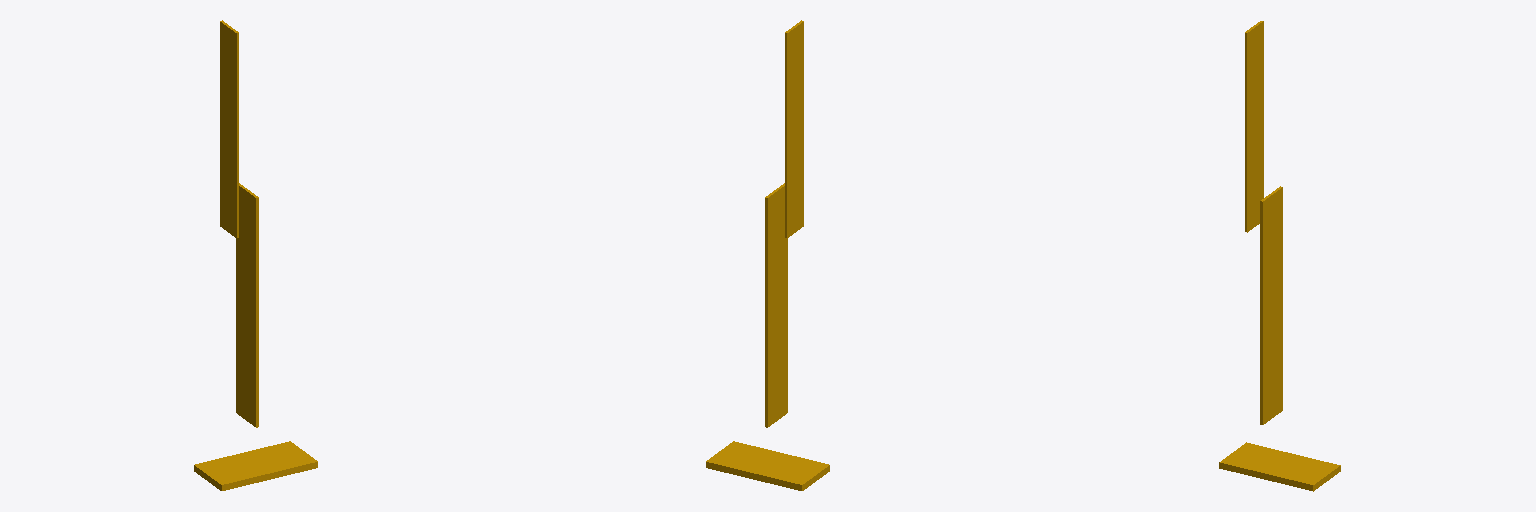
URDF robot description (134threedof):
<?xml version="1.0"?>

<robot name="134threedof">

  <!-- ******************************************************** -->
  <!-- ******************* Kinematic Chain ******************** -->
  <!-- ******************************************************** -->
  <!-- Note the 'origin' tag in the joints defines the shift and
       reorientation, i.e. the transform.  For moving joints, this
       happens before the continuous joint rotates around 'axis'. -->

  <!-- ALL LENGTHS IN M -->

  <!-- World can't take a visual element (at least in Gazebo). -->
  <link name="world"/>

  <joint name="placement" type="fixed">
    <parent link="world"/>
    <child  link="baseplate"/>
    <origin xyz="-0.2875 0.0394 0" rpy="0 0 0"/>			<!-- WHERE IS THE BASE -->
  </joint>

  <!-- BASE PLATE: Shift across the base plate to the base motor. --> 
  <link name="baseplate">
    <visual>
      <origin xyz="0.0 0.0 0.00625" rpy="0 0 0"/>
      <geometry>
	<box size="0.2 0.1 0.0125"/>
      </geometry>
      <material name="wood"/>
    </visual>
  </link>

  <joint name="baseplate" type="fixed">
    <parent link="baseplate"/>
    <child  link="basemotor"/>
    <origin xyz="0 0 0.0125" rpy="0 0 -1.5708"/>
  </joint>

  <!-- BASE MOTOR: Thickness: X5 = 31.1mm, X8 = 45.1mm -->
  <link name="basemotor">
    <visual>
      <geometry>
        <mesh filename="package://basic134/meshes/X5.stl"
	      scale="0.001 0.001 0.001"/>
      </geometry>
      <material name="hebi"/>
    </visual>
  </link>

  <joint name="base" type="continuous">
    <parent link="basemotor"/>
    <child  link="lbracket"/>
    <origin xyz="0 0 0.0311" rpy="0 0 0"/>
    <axis   xyz="0 0 1"/>
  </joint>

  <!-- L BRACKET: Shift and rotate across the L bracket. -->
  <link name="lbracket">
    <!-- Add a visual element -->
  </link>

  <joint name="lbracket" type="fixed">
    <parent link="lbracket"/>
    <child  link="shouldermotor"/>
    <origin xyz="0 0.02999 0.0953" rpy="1.5708 -1.5708 0.0"/>	  <!-- L BRACKET DIMENIONS -->
  </joint>

  <!-- SHOULDER MOTOR: Thickness: X5 = 31.1mm, X8 = 45.1mm -->
  <link name="shouldermotor">
    <visual>
      <geometry>
        <mesh filename="package://basic134/meshes/X8.stl"
	      scale="0.001 0.001 0.001"/>
      </geometry>
      <material name="hebi"/>
    </visual>
  </link>

  <joint name="shoulder" type="continuous">
    <parent link="shouldermotor"/>
    <child  link="upperarm"/>
    <origin xyz="0 0 0.0451" rpy="0 0 -1.5708"/>
    <axis   xyz="0 0 1"/>
  </joint>

  <!-- UPPER ARM: Shift across the upper arm -->
  <link name="upperarm">
    <visual>
      <origin xyz="0.0 0.19 0.00285" rpy="0 0 1.5708"/>
      <geometry>
	<box size="0.454 0.074 0.00570"/>
      </geometry>
      <material name="wood"/>
    </visual>
    <!-- Add a visual element -->
  </link>

  <joint name="upperarm" type="fixed">
    <parent link="upperarm"/>
    <child  link="elbowmotor"/>
    <origin xyz="0.0 0.38 0.0057" rpy="0 0 1.5708"/>		  <!-- UPPER ARM DIMENIONS -->
  </joint>

  <!-- Elbow motor.  Thickness: X5 = 31.1mm, X8 = 45.1mm -->
  <link name="elbowmotor">
    <visual>
      <geometry>
        <mesh filename="package://basic134/meshes/X5.stl"
	      scale="0.001 0.001 0.001"/>
      </geometry>
      <material name="hebi"/>
    </visual>
  </link>

  <joint name="elbow" type="continuous">
    <parent link="elbowmotor"/>
    <child  link="lowerarm"/>
    <origin xyz="0 0 0.0311" rpy="0 0 0.0"/>
    <axis   xyz="0 0 1"/>
  </joint>

  <!-- Shift across the upper arm -->
  <link name="lowerarm">
    <visual>
      <origin xyz="0.1655 0 0.00285" rpy="0 0 0"/>
      <geometry>
	<box size="0.405 0.06 0.00570"/>
      </geometry>
      <material name="wood"/>
    </visual>
  </link>

  <joint name="lowerarm" type="fixed">
    <parent link="lowerarm"/>
    <child  link="tip"/>
    <origin xyz="0.37 0.0 0.00285" rpy="0 0 0"/>		  <!-- UPPER ARM DIMENIONS -->
  </joint>

  <!-- TIP FRAME -->
  <link name="tip"/>

  
  <!-- *************************************************** -->
  <!-- *************** Visual Link Elements ************** -->
  <!-- *************************************************** -->
  <!-- Note collada .dae files have better color/texture   -->
  <!-- suppport that STL files.                            -->

  <!-- Colors -->
  <material name="wood">  <color rgba="0.82 0.62 0.04 1"/>  </material>
  <material name="hebi">  <color rgba="0.82 0.06 0.06 1"/>  </material>

</robot>

--- Render facts (derived) ---
Views: 3 orthographic renders of the robot side by side, from view 1: azimuth 30°, elevation 25°; view 2: azimuth 150°, elevation 25°; view 3: azimuth 330°, elevation 25°.
Model 134threedof with 9 links and 8 joints (3 continuous, 5 fixed), rooted at world, posed all joints at 0.
Links seen in each view (by area): view 1: upperarm, lowerarm, baseplate; view 2: upperarm, lowerarm, baseplate; view 3: upperarm, lowerarm, baseplate.
Boxes of the visible links, box(x1,y1,x2,y2) form: upperarm: box(236, 183, 258, 427); lowerarm: box(220, 20, 238, 237); baseplate: box(194, 441, 317, 490); upperarm: box(765, 183, 787, 427); lowerarm: box(785, 20, 803, 237); baseplate: box(706, 441, 829, 490); upperarm: box(1260, 186, 1282, 424); lowerarm: box(1245, 21, 1263, 232); baseplate: box(1219, 442, 1340, 491).
Bounding box of the posed robot: 0.2 × 0.1 × 0.8869 m (x, y, z).
Meshes: 2 distinct files referenced, 0 mesh visuals loaded (none loaded); not drawn: 3 (file found but could not be loaded).
